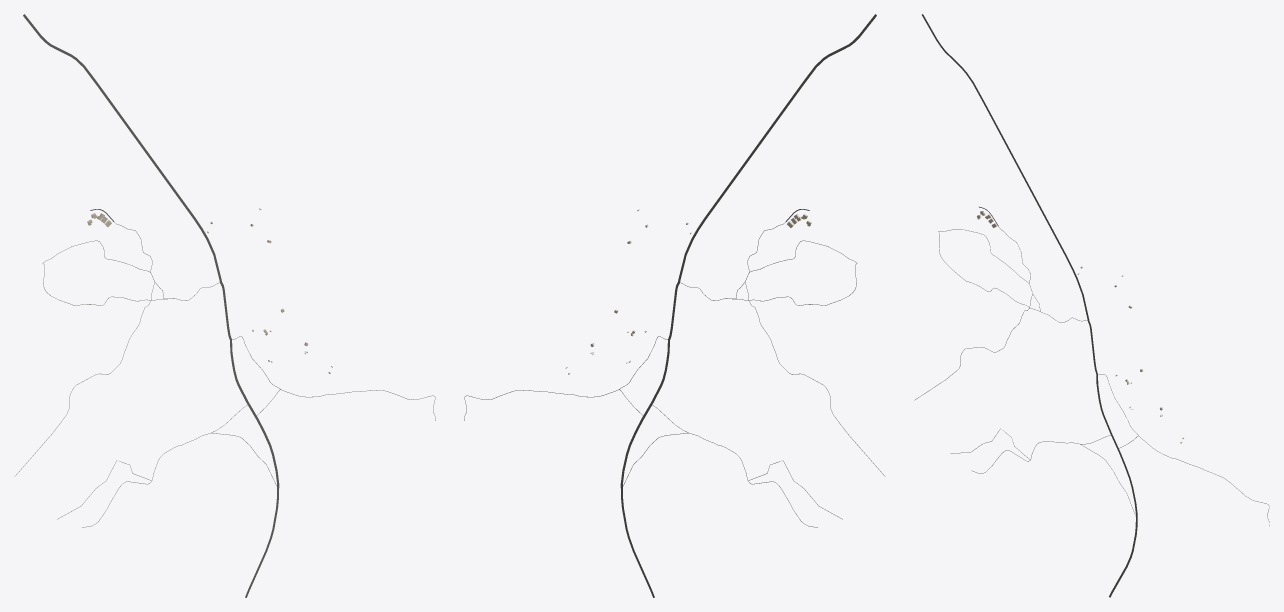
Rendered from historic-palestine-10_33_3518_3277.glb.
The picture shows the model from 3 angles, left to right: view 1: azimuth 30°, elevation 25°; view 2: azimuth 150°, elevation 25°; view 3: azimuth 330°, elevation 25°; orthographic projection. The views are drawn at different scales.
Visible parts, largest first — view 1: Road 7912; view 2: Road 7912; view 3: Road 7912.
Boxes of the visible parts, box(x1,y1,x2,y2) form: Road 7912: box(23, 14, 279, 597); Road 7912: box(620, 14, 876, 597); Road 7912: box(922, 14, 1137, 597).
Bounding box in the file's own units: 1581 × 2290 × 8.7.
